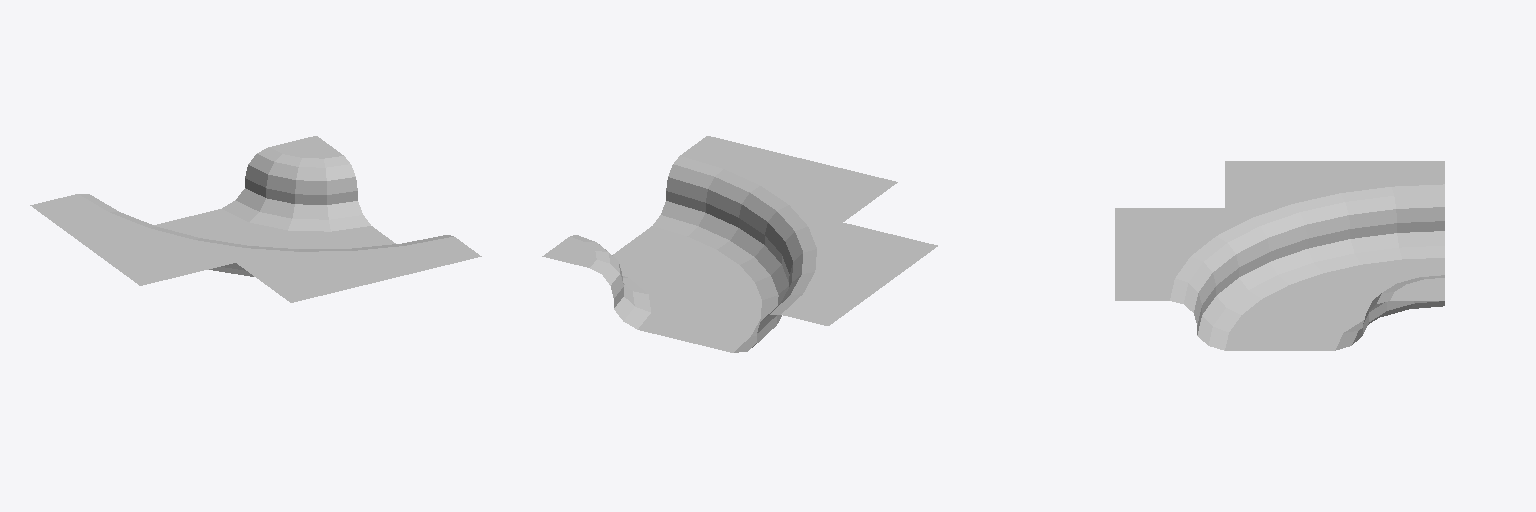
Rendered from Track_Standard_Curve_Single_3x3.obj.
The picture shows the model from 3 angles: view 1: azimuth 30°, elevation 25°; view 2: azimuth 150°, elevation 25°; view 3: azimuth 270°, elevation 25°; orthographic projection.
Parts seen in each view (by area): view 1: Grass, Dirt; view 2: Grass, Dirt; view 3: Grass, Dirt.
Boxes of the visible parts, x1,y1,x2,y2 form: Grass: [30, 136, 481, 302]; Dirt: [154, 188, 395, 276]; Grass: [542, 136, 937, 342]; Dirt: [613, 201, 788, 352]; Grass: [1115, 161, 1444, 334]; Dirt: [1197, 231, 1444, 350].
Bounding box in the file's own units: 3 × 0.5 × 3.